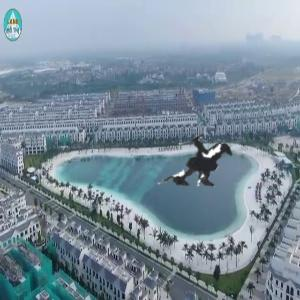drone: (89, 54, 280, 245)
